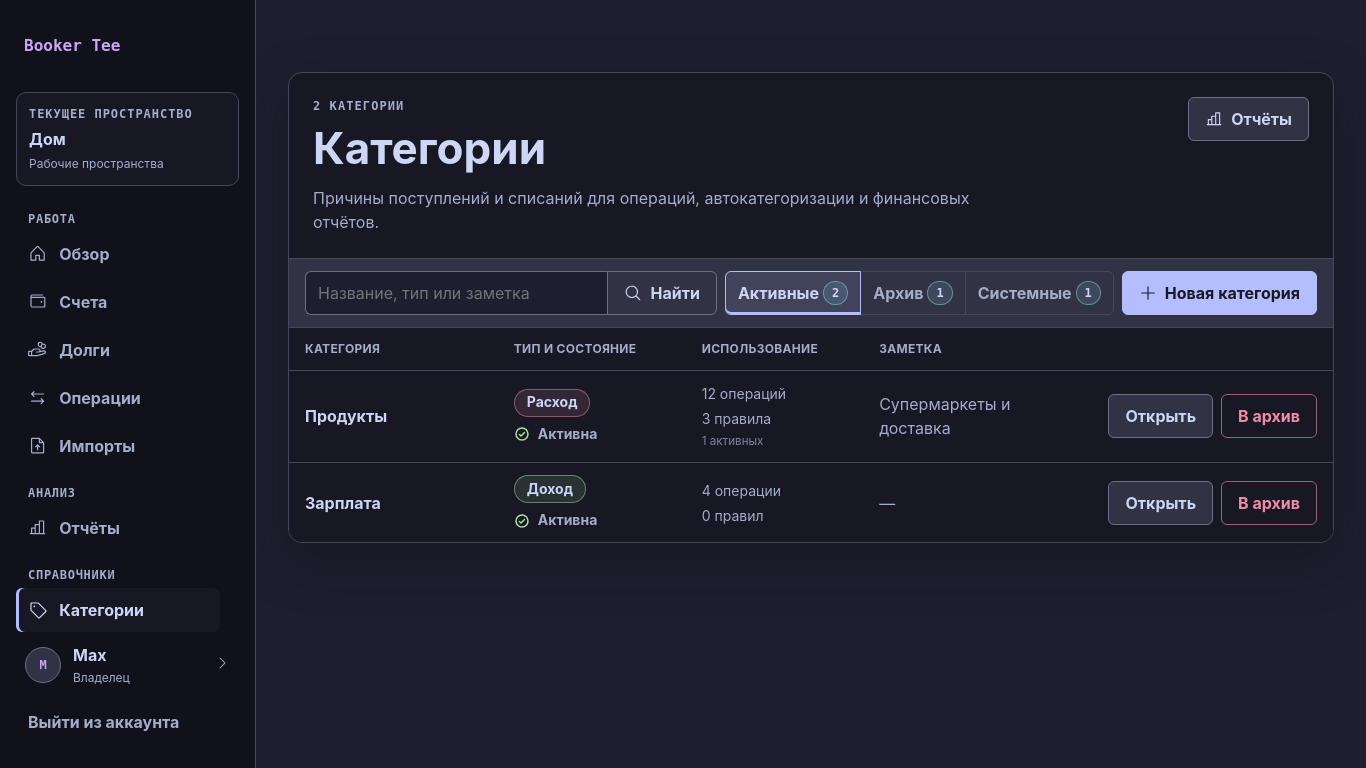
Test: CategoriesPage › explains an active-rule archive blocker without sending a mutation
This screenshot has width=1366, height=768.
Check: the text "Продукты" is shown, box [305,394,387,438]
Step 1. Click the button "В архив" in the row of "Продукты" → (1269,416), box [1221,394,1317,438]
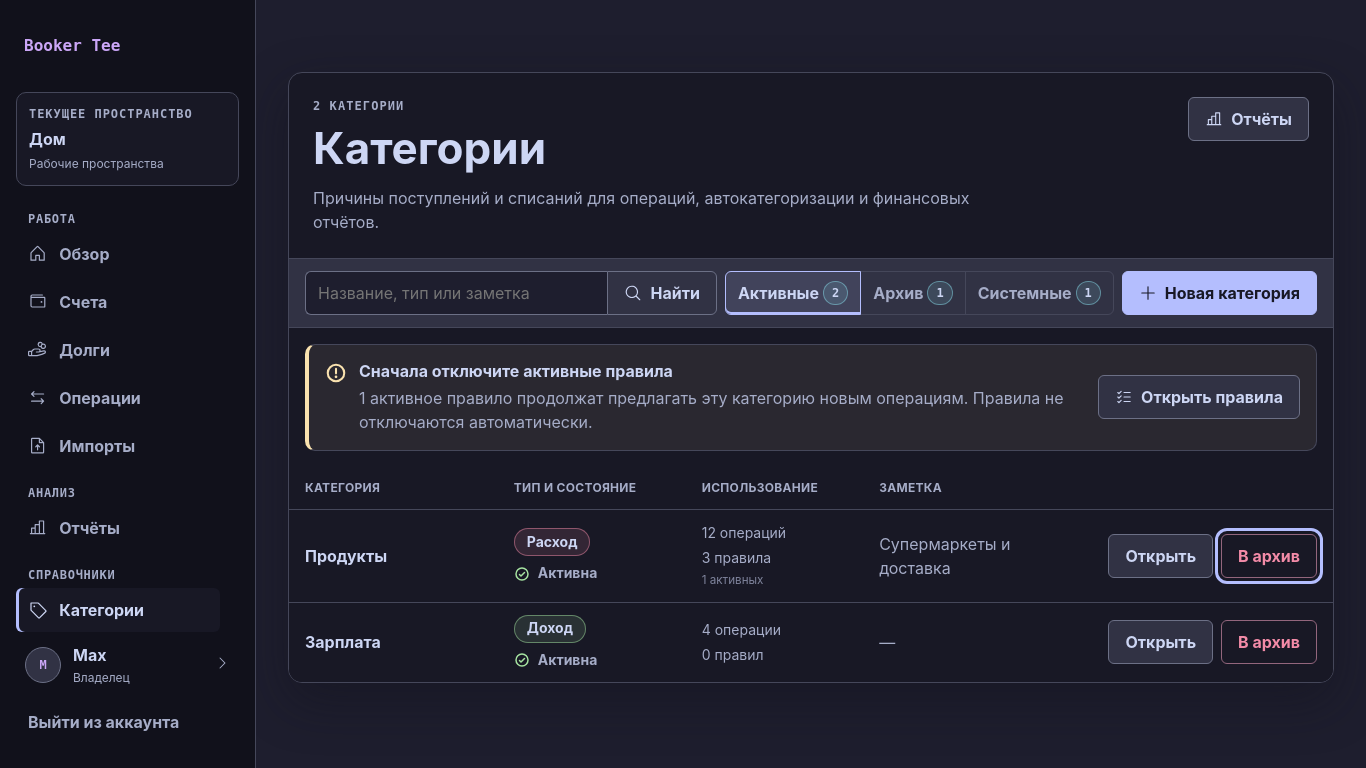
Check: the text "Сначала отключите активные правила" is shown, box [359,361,673,381]
